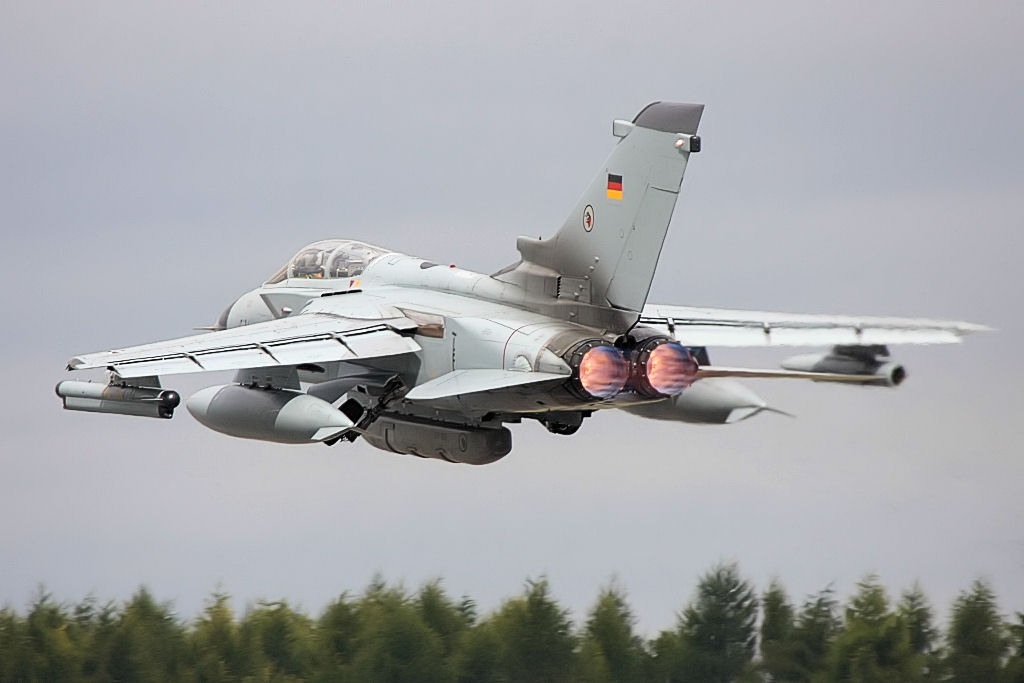Tornado: (54, 99, 1001, 466)
